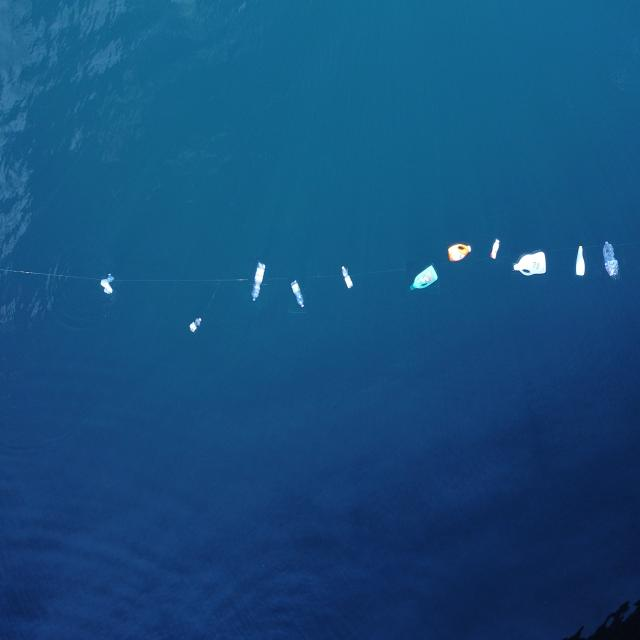bottles: (511, 248, 549, 280), (406, 261, 440, 294), (248, 257, 268, 307), (600, 238, 621, 283), (446, 241, 474, 265), (288, 277, 306, 313), (575, 240, 587, 282), (99, 270, 117, 297), (340, 262, 355, 292), (189, 310, 204, 336), (487, 237, 501, 263)
